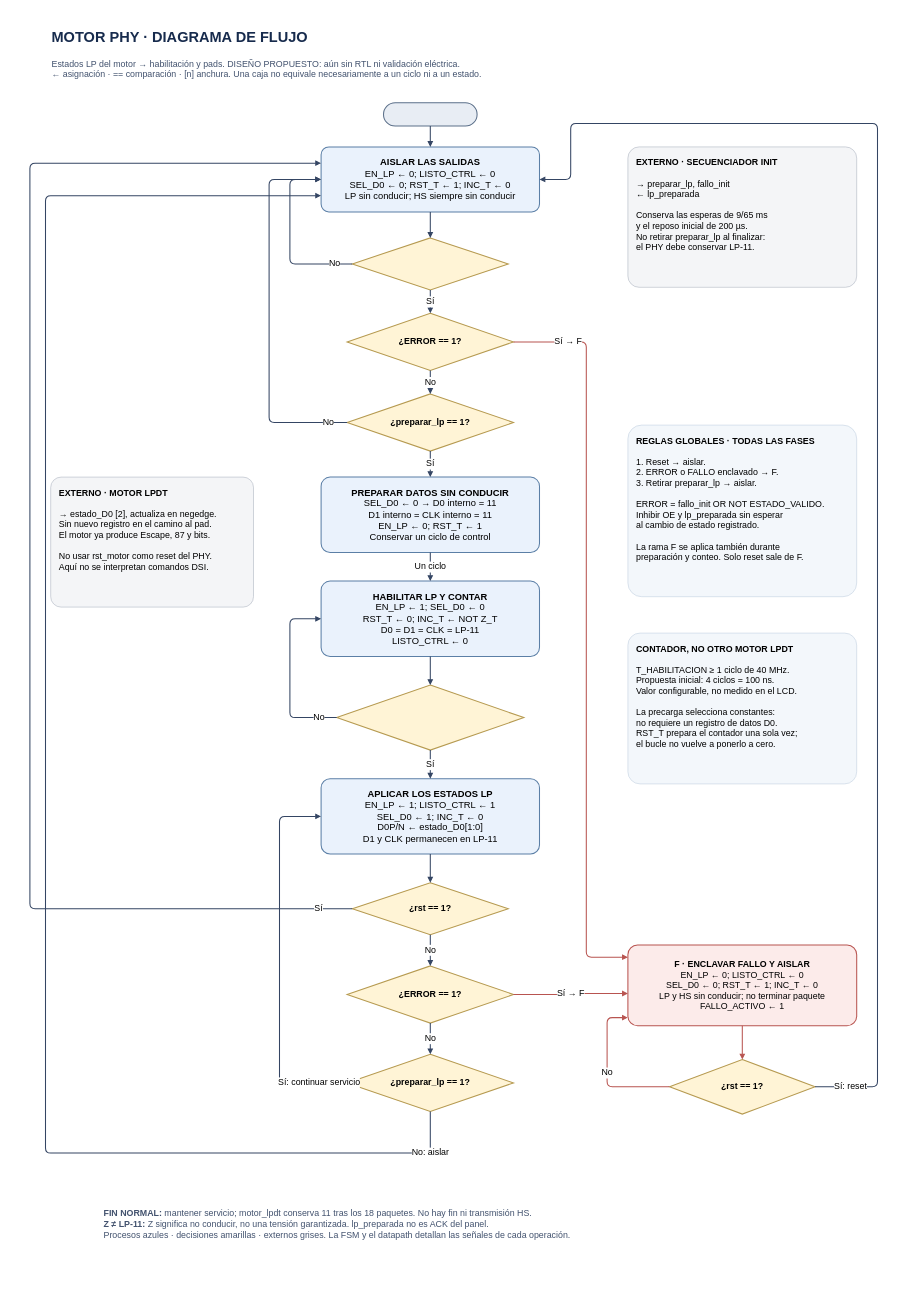
This 902x1307 diagram has some shape labels left out. The box of each missing label's shape, as (x1, y1, x2, y2) in pixels:
INICIO: (383, 102, 477, 126)
¿rst == 0?: (352, 237, 509, 290)
¿Z_T == 1? TIEMPO == T_HABILITACION: (336, 684, 524, 750)
